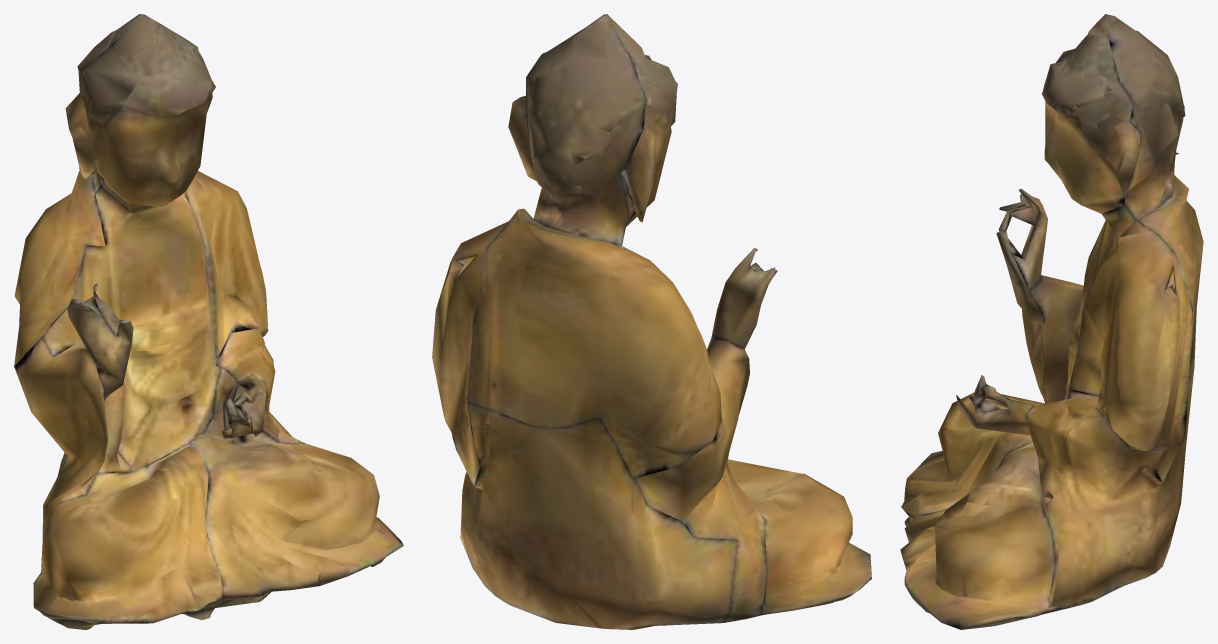
The model's file is buddha.glb.
The picture shows the model from 3 angles, left to right: view 1: azimuth 30°, elevation 25°; view 2: azimuth 150°, elevation 25°; view 3: azimuth 270°, elevation 25°; orthographic projection. The views are drawn at different scales.
Parts seen in each view (by area): view 1: NMK_Goryeo_Amitabha_duk002116_002; view 2: NMK_Goryeo_Amitabha_duk002116_002; view 3: NMK_Goryeo_Amitabha_duk002116_002.
Boxes of the visible parts, x1,y1,x2,y2 form: NMK_Goryeo_Amitabha_duk002116_002: [14, 14, 403, 629]; NMK_Goryeo_Amitabha_duk002116_002: [432, 14, 871, 629]; NMK_Goryeo_Amitabha_duk002116_002: [900, 14, 1203, 629].
Bounding box in the file's own units: 0.7016 × 0.9974 × 0.5182.
Materials: 1 (1 with a texture image).
